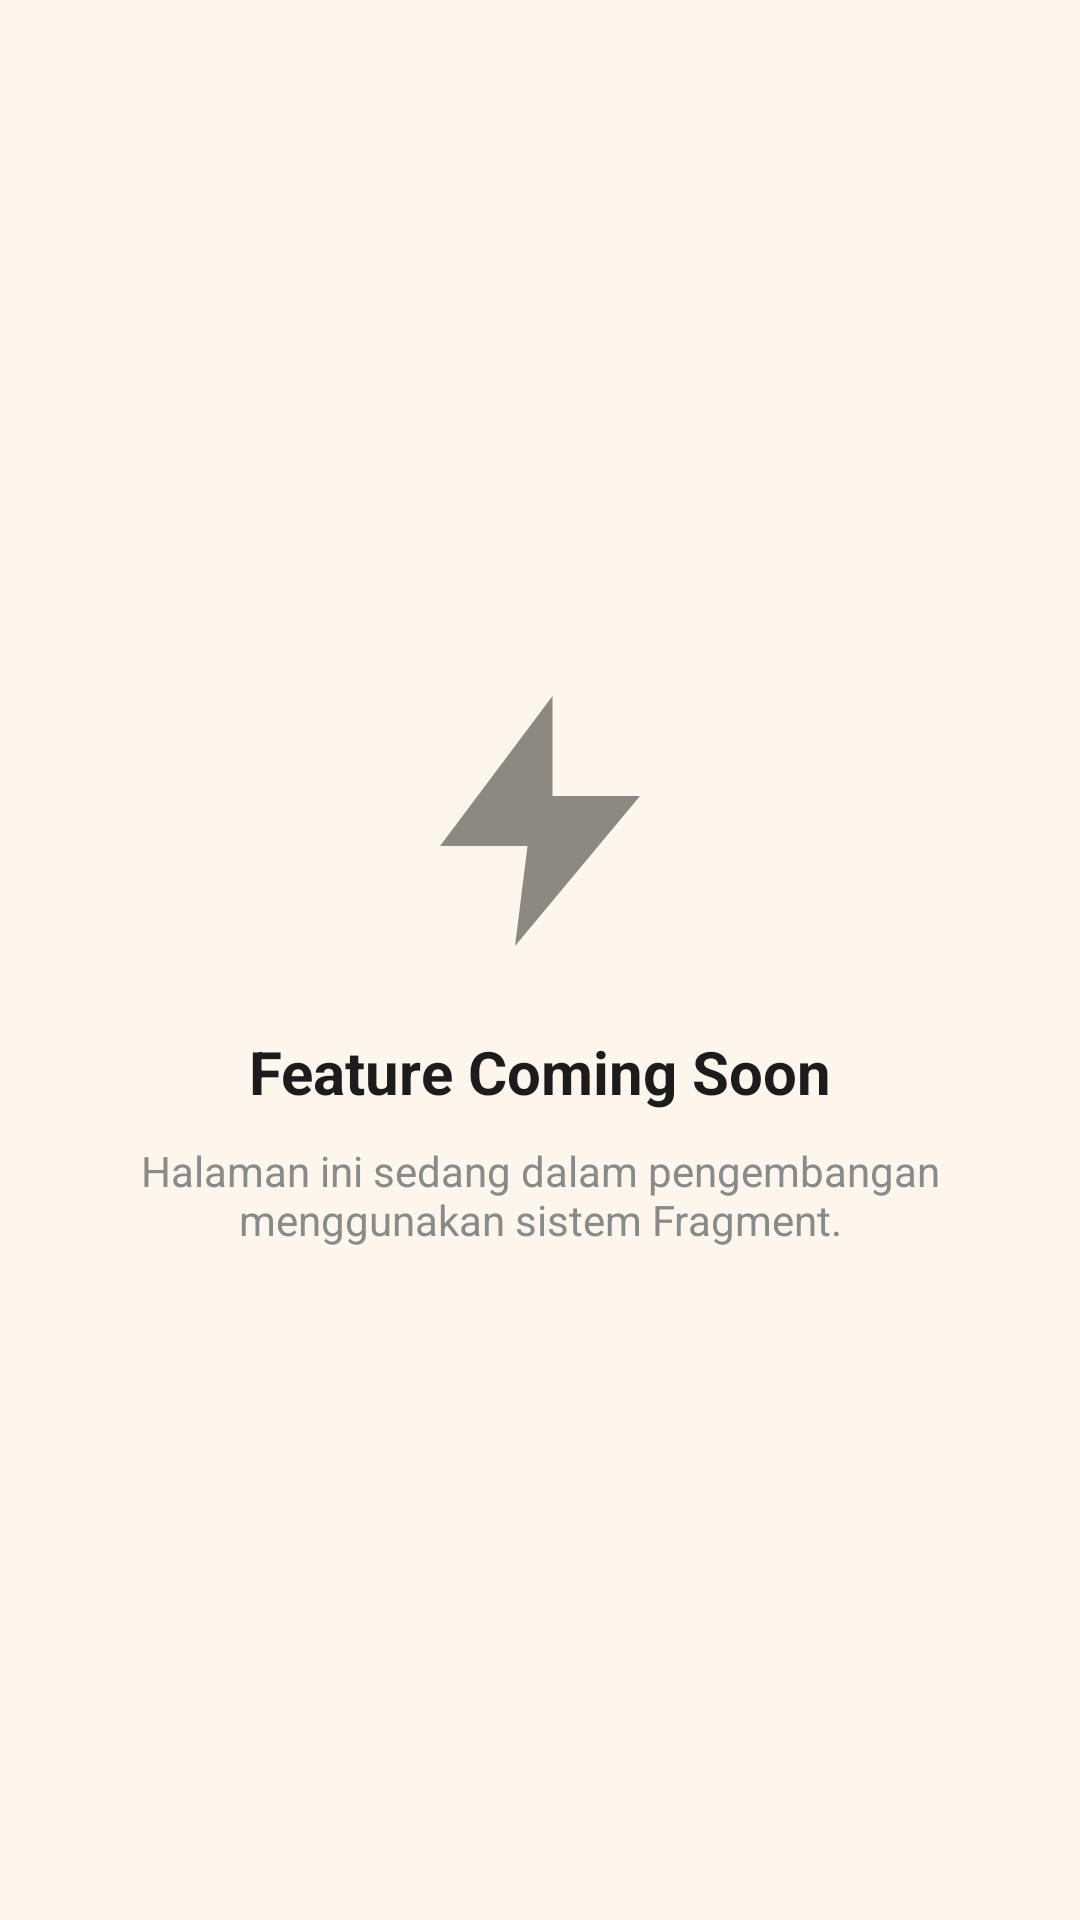

Locate icon controls on the screen. Image size 1080x1920, boxes as bbox(x1, y1, x2, y2).
bolt: bbox(440, 696, 640, 946)
